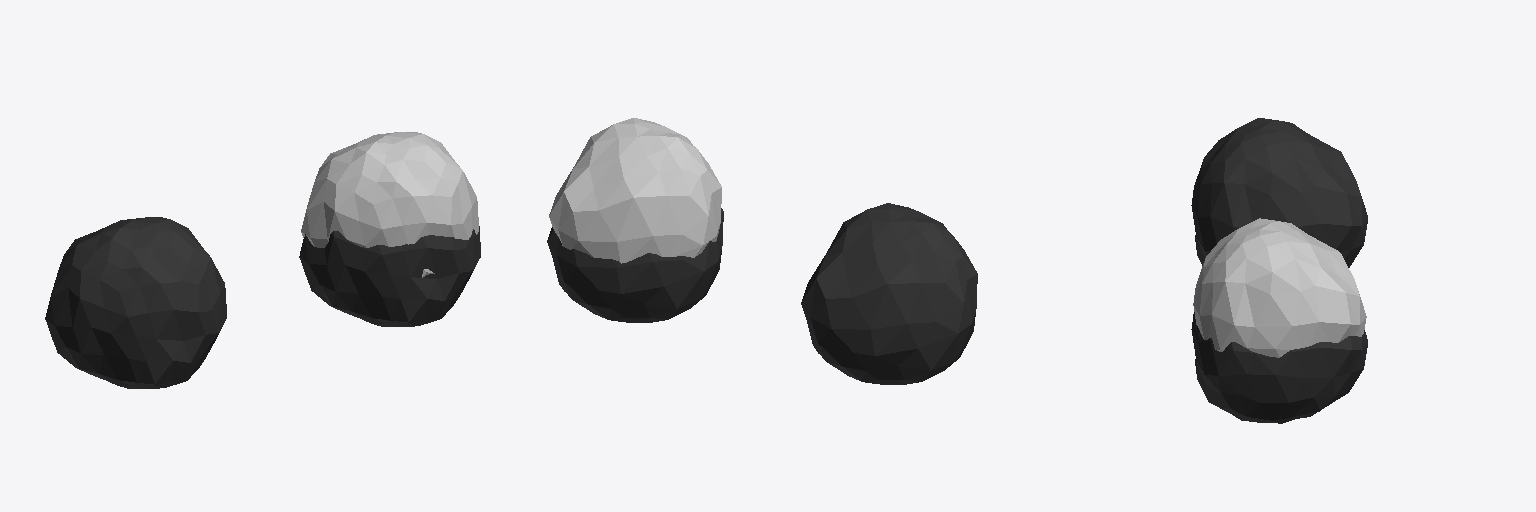
File: Boulders.obj
3 views of the same model, side by side, from view 1: azimuth 30°, elevation 25°; view 2: azimuth 150°, elevation 25°; view 3: azimuth 270°, elevation 25° (orthographic).
Visible parts, largest first — view 1: Icosphere.009_Icosphere.039, Icosphere_Icosphere.002; view 2: Icosphere.009_Icosphere.039, Icosphere_Icosphere.002; view 3: Icosphere.009_Icosphere.039, Icosphere_Icosphere.002.
Boxes of the visible parts, x1,y1,x2,y2 form: Icosphere.009_Icosphere.039: [299, 132, 480, 326]; Icosphere_Icosphere.002: [45, 217, 226, 388]; Icosphere.009_Icosphere.039: [547, 118, 723, 322]; Icosphere_Icosphere.002: [801, 203, 977, 384]; Icosphere.009_Icosphere.039: [1191, 218, 1367, 423]; Icosphere_Icosphere.002: [1191, 118, 1367, 267].
Bounding box in the file's own units: 13.35 × 5.68 × 5.05.